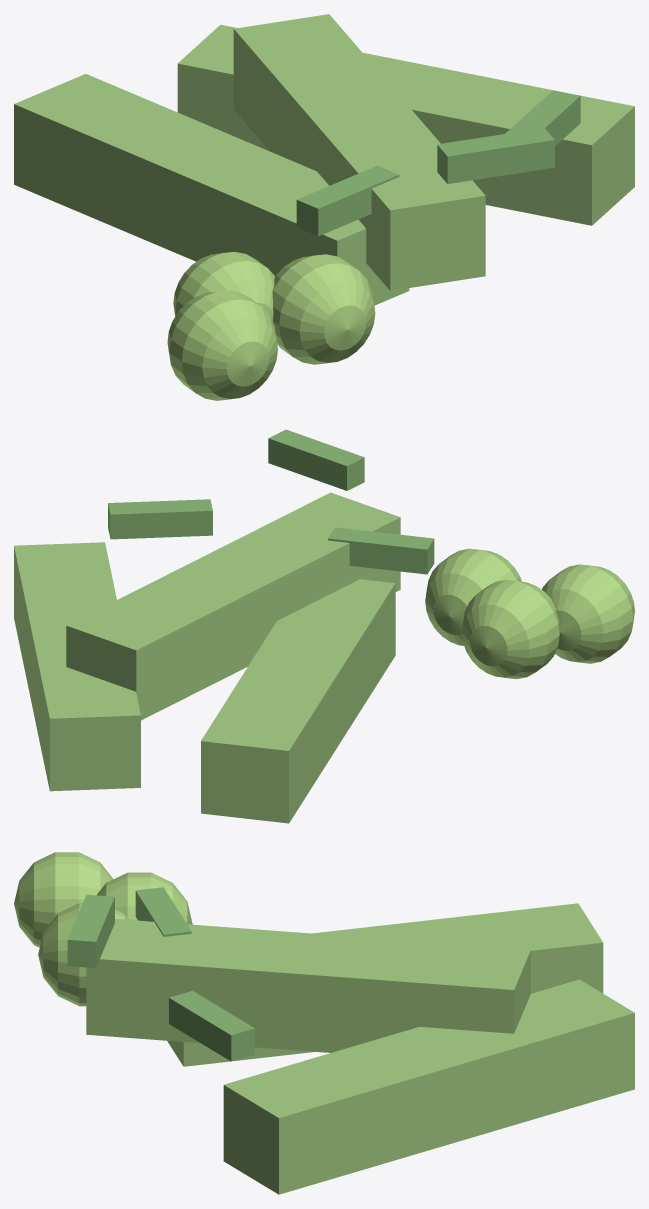
The model's file is item_peas.glb.
The picture shows the model from 3 angles, top to bottom: view 1: azimuth 30°, elevation 25°; view 2: azimuth 150°, elevation 25°; view 3: azimuth 270°, elevation 25°; orthographic projection. The views are drawn at different scales.
Parts seen in each view (by area): view 1: leaf, pea, leaf_dark; view 2: leaf, pea, leaf_dark; view 3: leaf, pea, leaf_dark.
Part boxes in pixels (box(x1,y1,x2,y2)): leaf: box(14, 14, 634, 305); pea: box(167, 251, 375, 400); leaf_dark: box(296, 90, 580, 236); leaf: box(14, 492, 400, 823); pea: box(425, 548, 634, 679); leaf_dark: box(108, 429, 434, 574); leaf: box(86, 903, 634, 1194); pea: box(14, 852, 192, 1006); leaf_dark: box(67, 887, 254, 1061).
Size of the model in its own units: 0.2595 by 0.076 by 0.2572.
